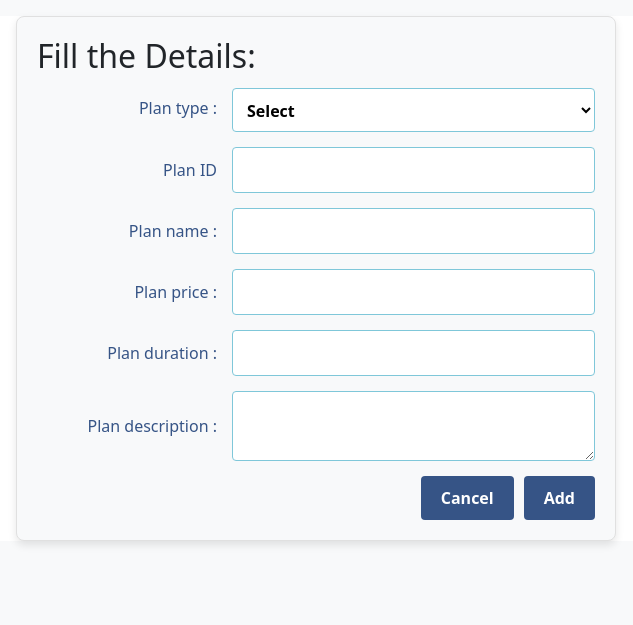
it: CreateServicePlan Component › handles form submission errors
Type "PREP-TC-0001" into the field labelled "Plan ID" at (414, 170), box [232,147,595,193]
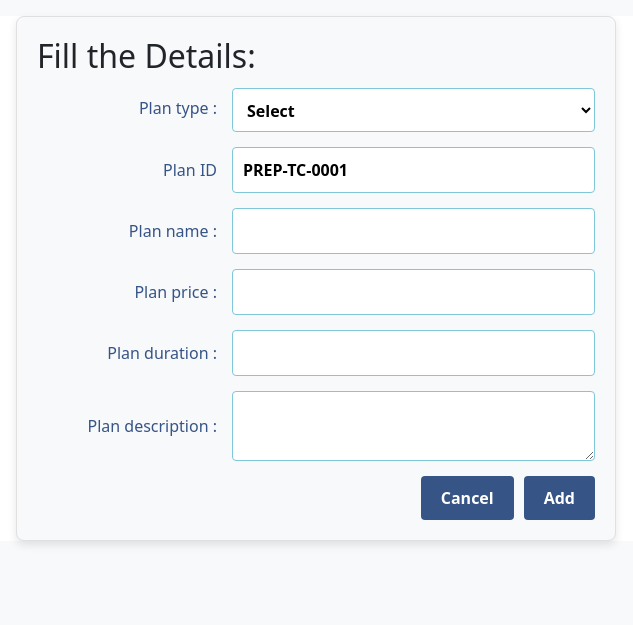
Type "Basic Plan" into the field labelled "Plan name :" at (414, 231), box [232,208,595,254]
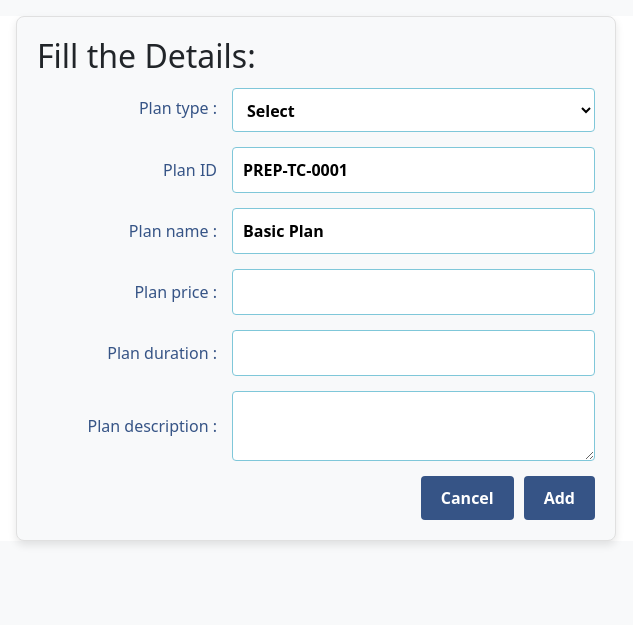
Type "10" into the field labelled "Plan price :" at (414, 292), box [232,269,595,315]
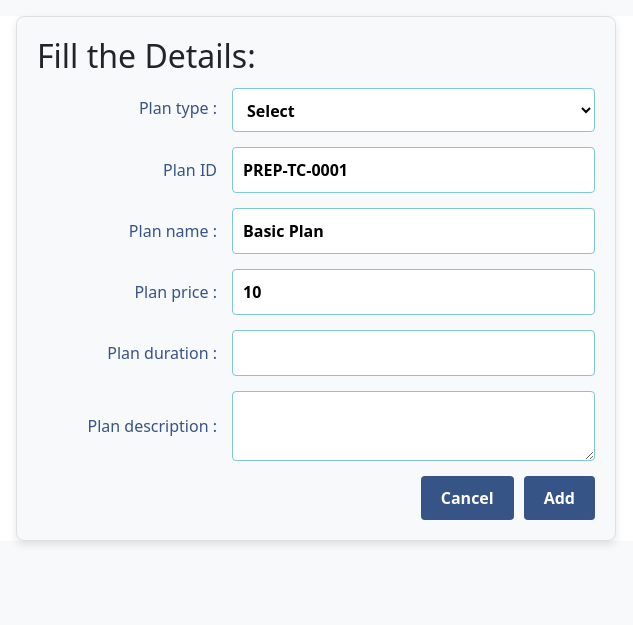
Type "30 days" into the field labelled "Plan duration :" at (414, 353), box [232,330,595,376]
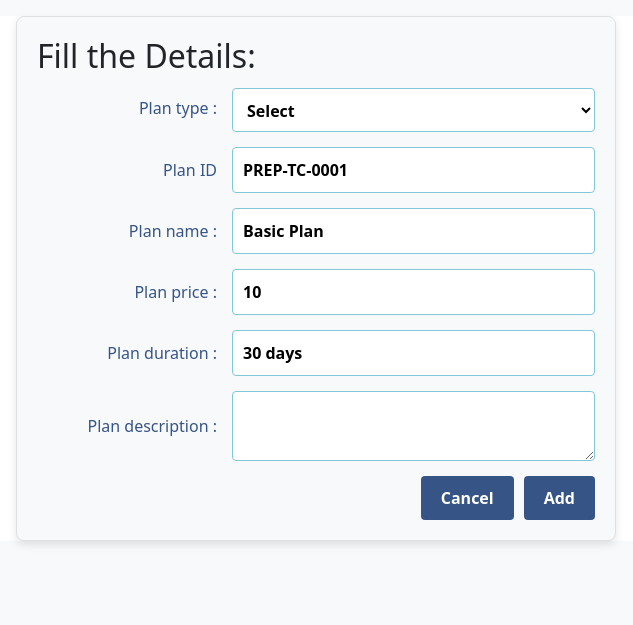
Type "A basic prepaid plan" into the text box labelled "Plan description :" at (414, 426), box [232,391,595,461]
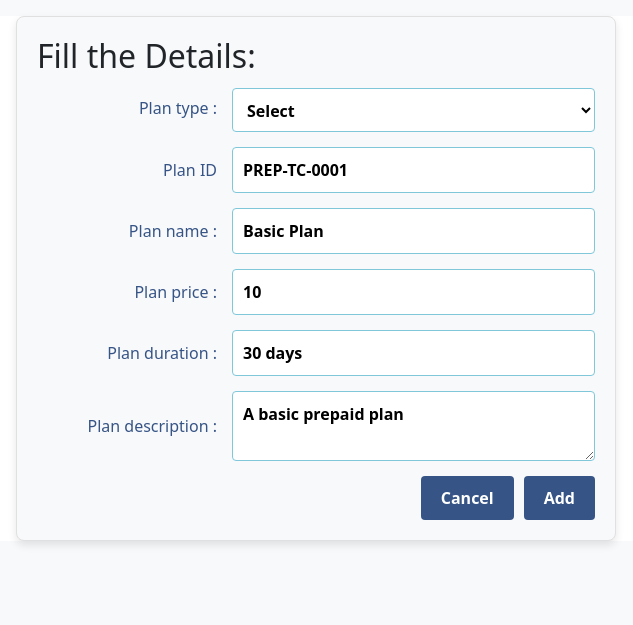
Click the button "Add" at (559, 498), box [524,476,595,520]
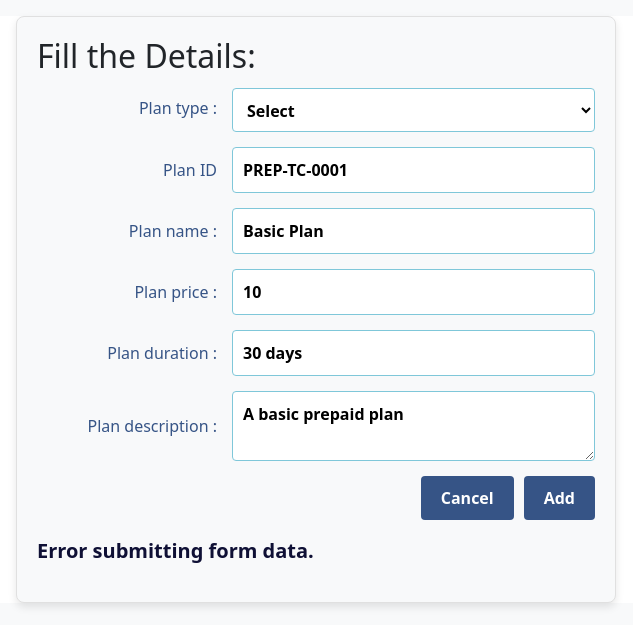
Result: the text "Error submitting form data." is shown at [37,537,314,564]
